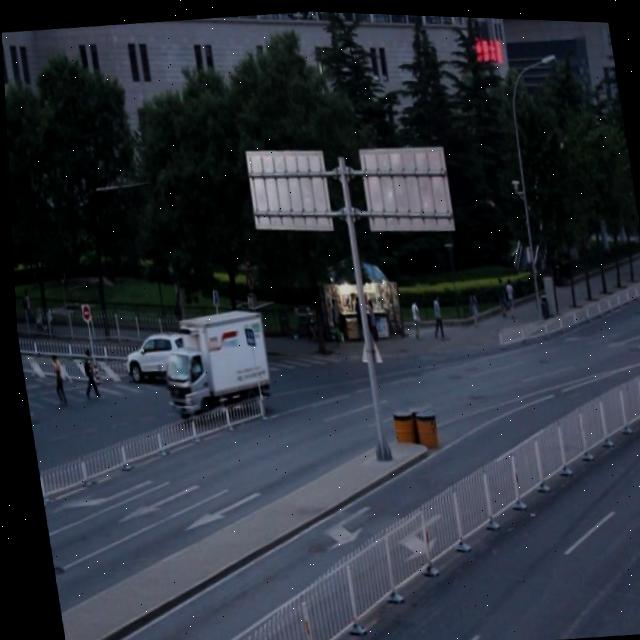bus: (152, 305, 270, 418)
car: (116, 323, 193, 385)
